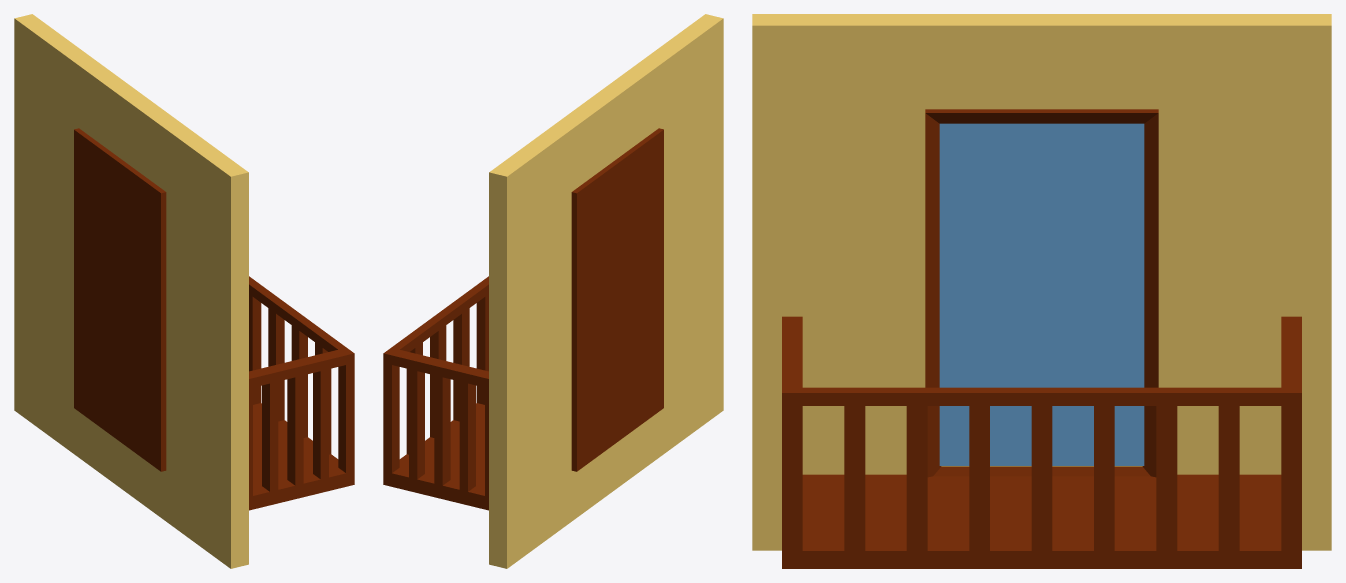
The model's file is balcony2.fbx.
3 renders of one model, left to right at view 1: azimuth 30°, elevation 25°; view 2: azimuth 150°, elevation 25°; view 3: azimuth 270°, elevation 25°, orthographic. The views are drawn at different scales.
Visible parts, largest first — view 1: Cube.003, Cube.002, Cube.001; view 2: Cube.003, Cube.002, Cube.001; view 3: Cube.003, Cube.001, Cube, Cube.002.
Part boxes in pixels (x1,y1,x2,y2): Cube.003: (14,14,248,568); Cube.002: (74,128,166,471); Cube.001: (249,276,354,510); Cube.003: (489,14,723,568); Cube.002: (571,128,663,471); Cube.001: (383,276,488,510); Cube.003: (752,14,1331,550); Cube.001: (782,316,1301,568); Cube: (939,123,1144,465); Cube.002: (925,109,1158,477).
Bounding box in the file's own units: 74.64 × 200 × 200.
